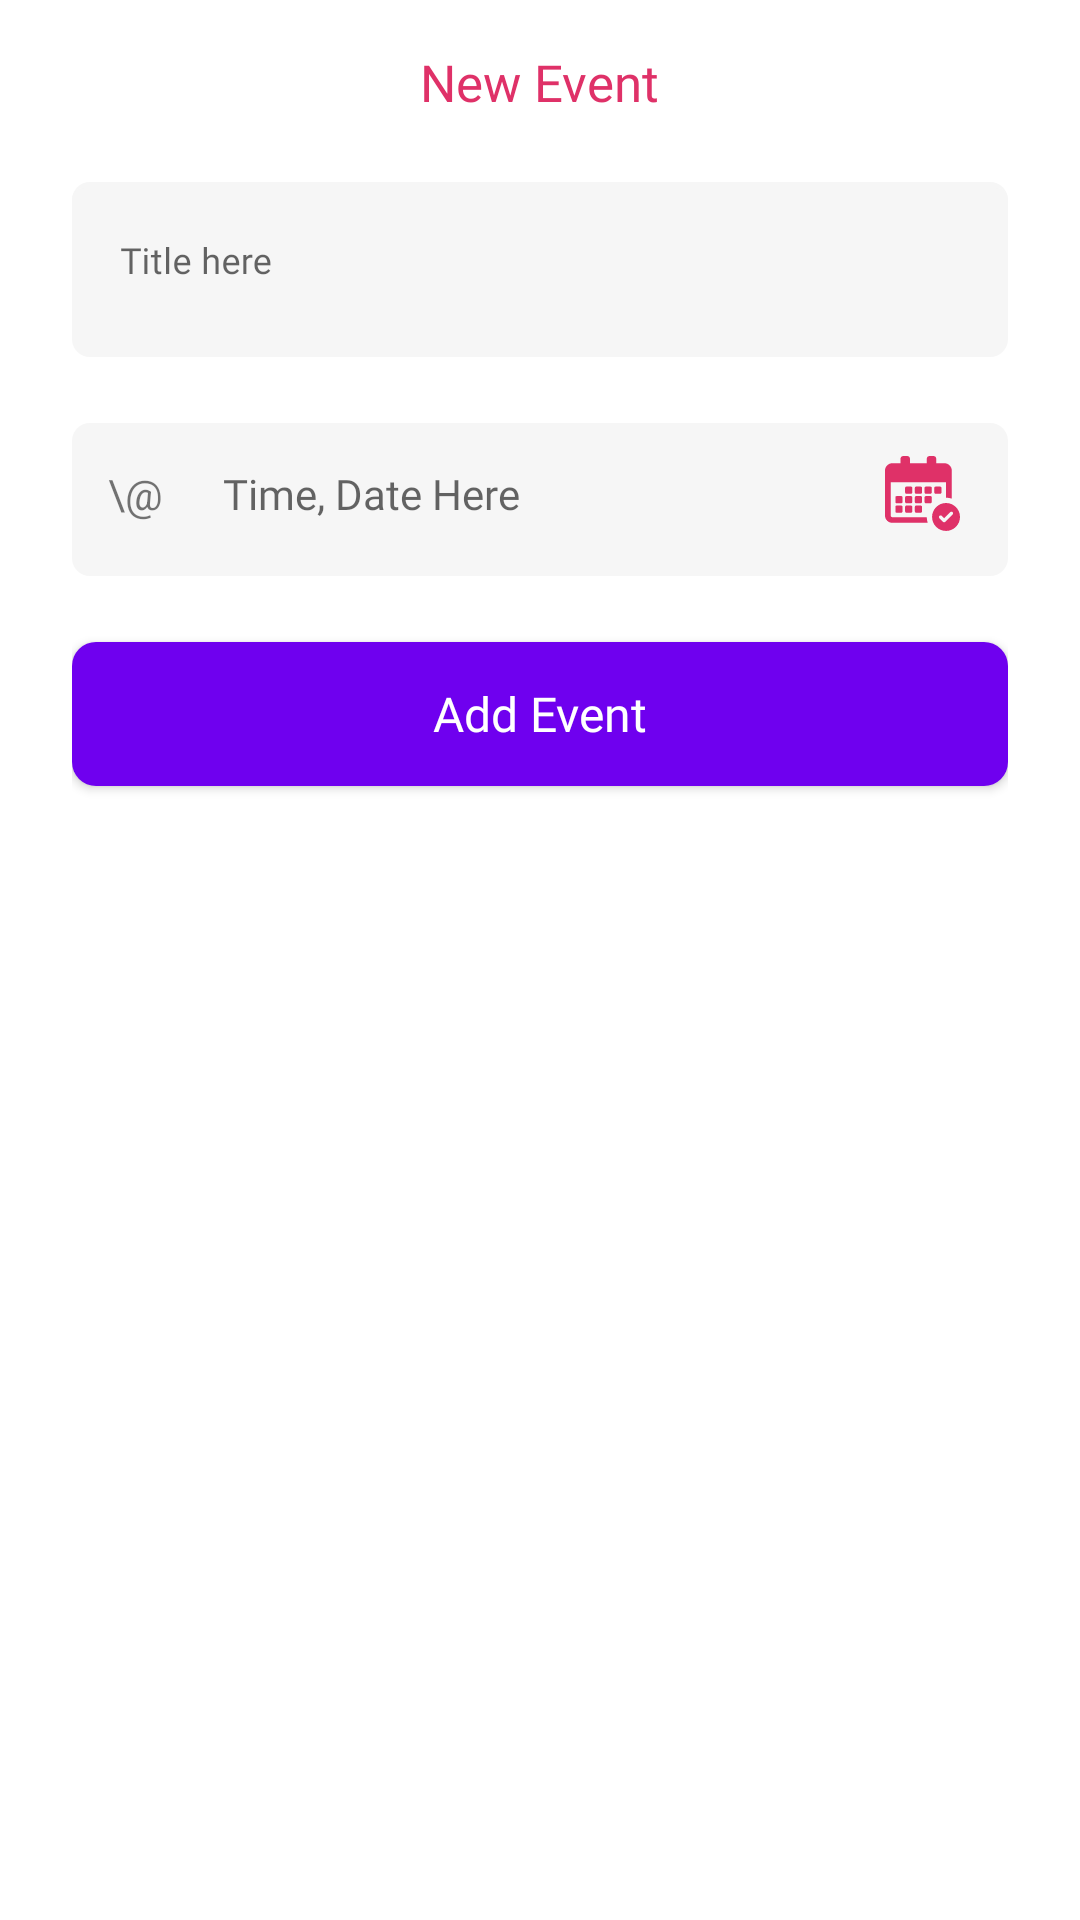

Where to tap for icons on this 1080 × 1920 app screen, as (x,y):
calender: (922,493)
